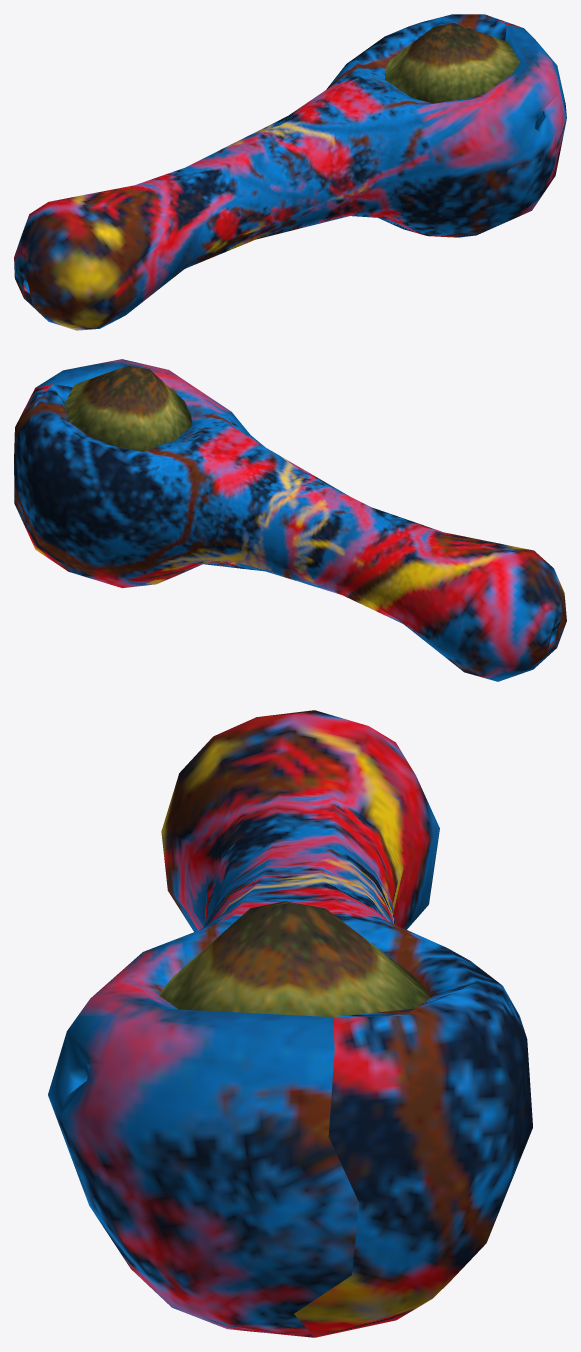
File: SmokePipeGlassFilled_Ground.fbx
3 views of the same model, one above another, from view 1: azimuth 30°, elevation 25°; view 2: azimuth 150°, elevation 25°; view 3: azimuth 270°, elevation 25° (orthographic). The views are drawn at different scales.
Visible parts, largest first — view 1: SmokePipe.001; view 2: SmokePipe.001; view 3: SmokePipe.001.
Part boxes in pixels (x1,y1,x2,y2): SmokePipe.001: (14, 14, 566, 330); SmokePipe.001: (14, 359, 566, 681); SmokePipe.001: (48, 710, 532, 1337).
Bounding box in the file's own units: 0.0991 × 0.0381 × 0.0394.
